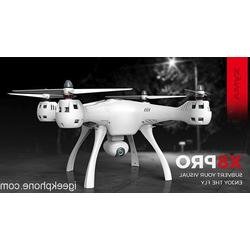drone: (7, 79, 214, 190)
